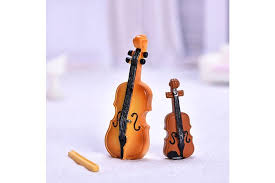Violin: (161, 71, 209, 177)
